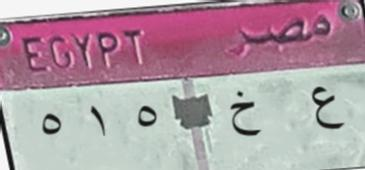1: (77, 102, 110, 144)
5: (36, 108, 64, 142), (132, 103, 160, 131)
ain: (303, 78, 345, 134)
khaa: (224, 89, 264, 149)
